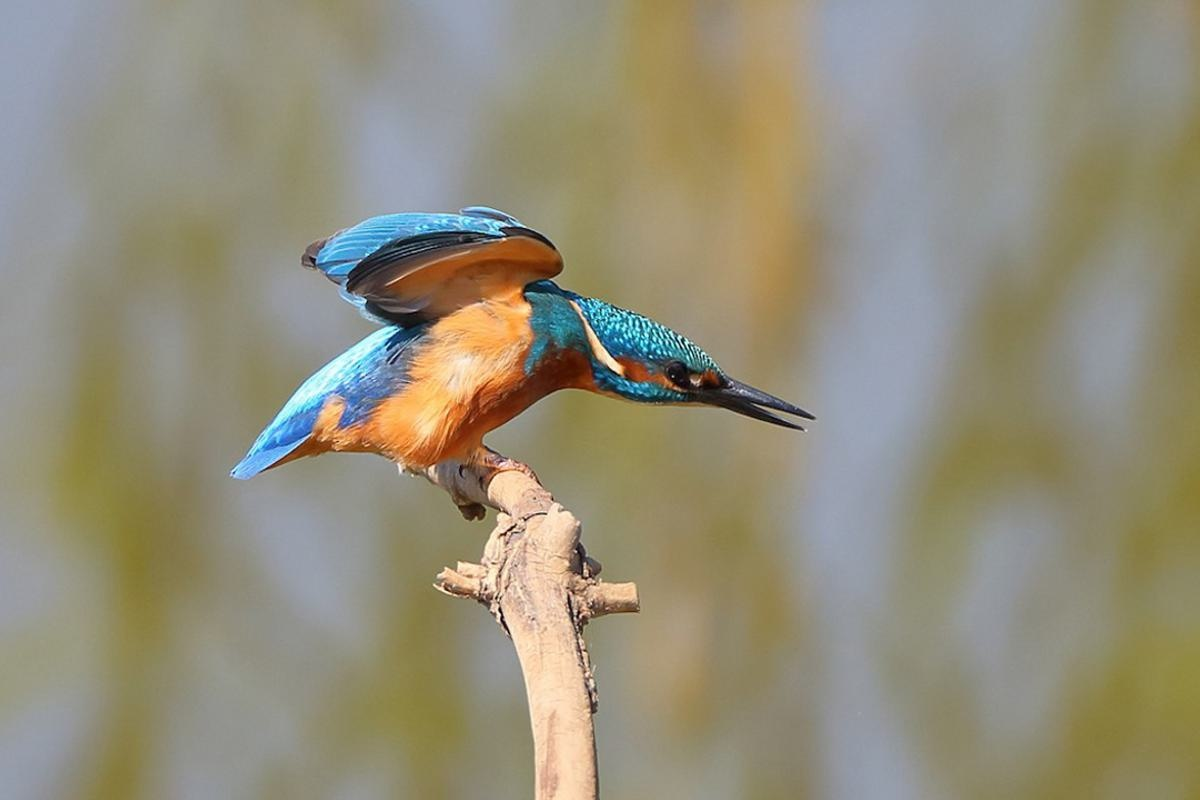kingfisher: (242, 203, 805, 501)
